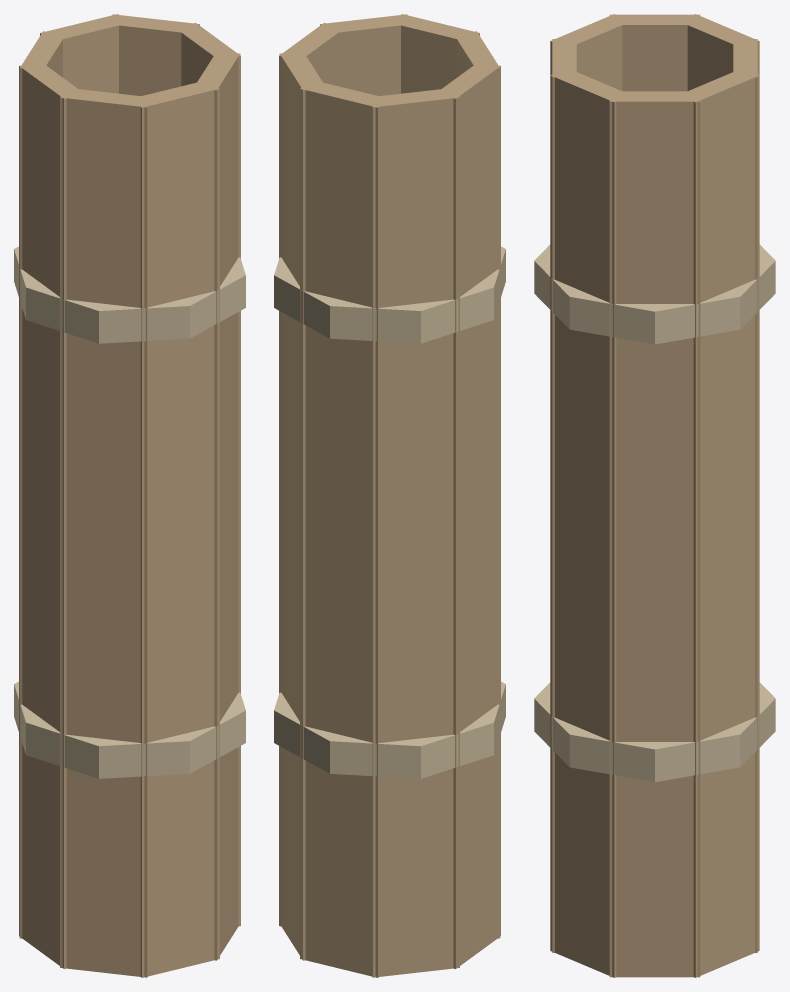
Rendered from prop-stave-bundle.fbx.
3 renders of one model, left to right at view 1: azimuth 30°, elevation 25°; view 2: azimuth 150°, elevation 25°; view 3: azimuth 270°, elevation 25°, orthographic.
Parts seen in each view (by area): view 1: prop-stave-bundle; view 2: prop-stave-bundle; view 3: prop-stave-bundle.
Boxes of the visible parts, x1,y1,x2,y2 form: prop-stave-bundle: [14, 14, 245, 977]; prop-stave-bundle: [274, 14, 505, 977]; prop-stave-bundle: [534, 14, 775, 977].
Bounding box in the file's own units: 20 × 80 × 20.
